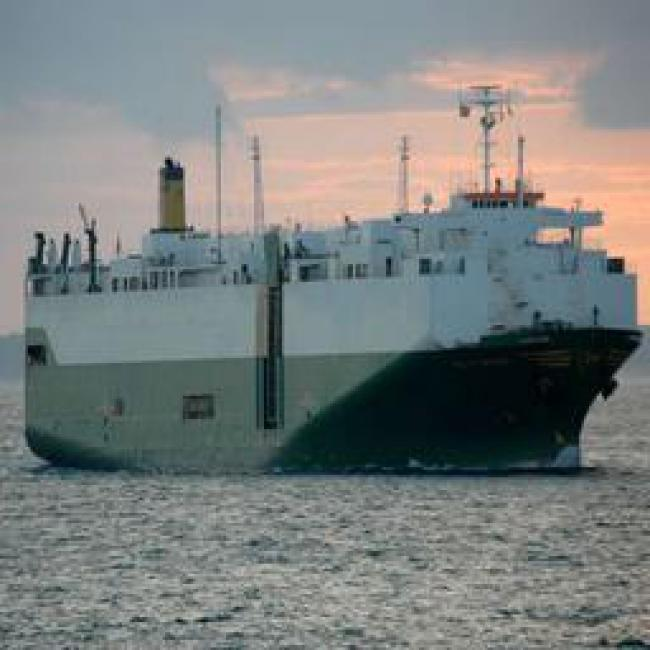Ship: (7, 204, 641, 479)
